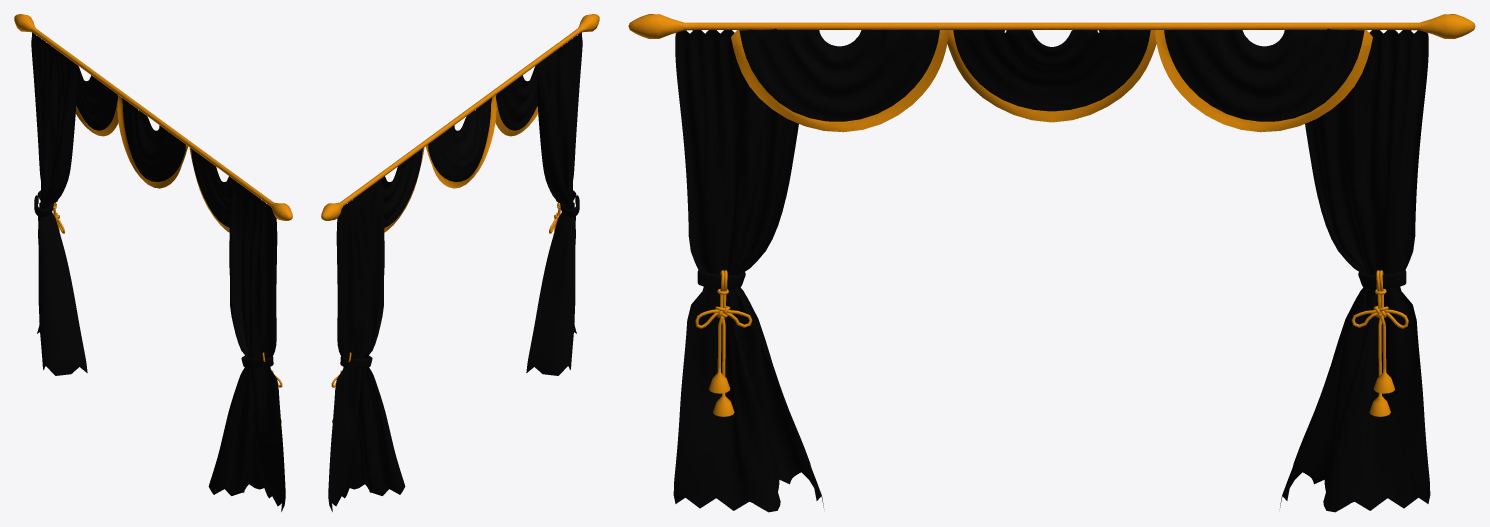
Rendered from Curtains_Livingroom.fbx.
The picture shows the model from 3 angles, left to right: view 1: azimuth 30°, elevation 25°; view 2: azimuth 150°, elevation 25°; view 3: azimuth 270°, elevation 25°; orthographic projection. The views are drawn at different scales.
Visible parts, largest first — view 1: BézierCurve.002; view 2: BézierCurve.002; view 3: BézierCurve.002.
Part boxes in pixels (x1,y1,x2,y2): BézierCurve.002: [14, 14, 292, 511]; BézierCurve.002: [321, 14, 599, 511]; BézierCurve.002: [628, 14, 1475, 512].
Size of the model in its own units: 28.07 by 186 by 289.
